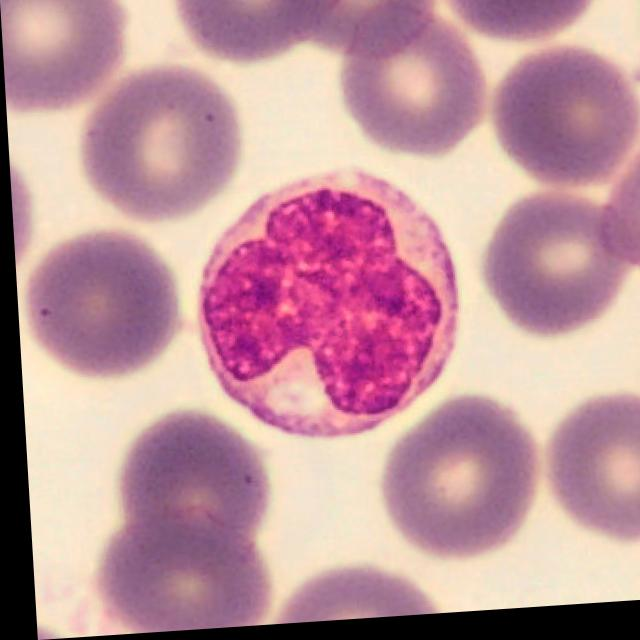Monocito: (193, 173, 453, 443)
